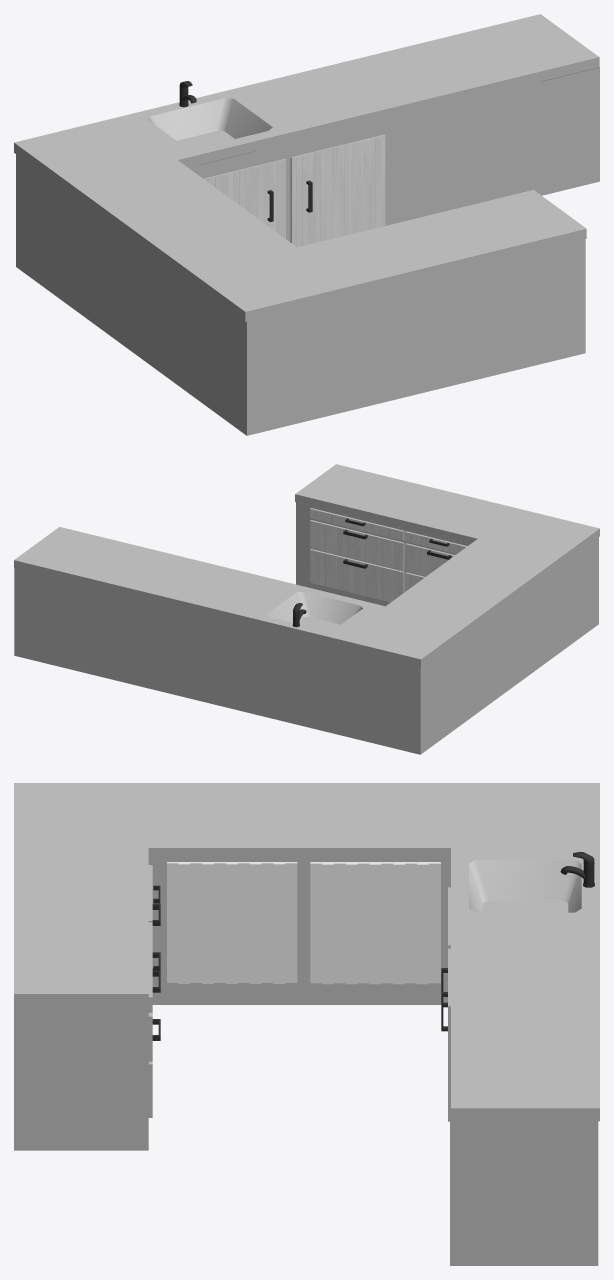
The model's file is Kitchen_set.FBX.
The picture shows the model from 3 angles, top to bottom: view 1: azimuth 30°, elevation 25°; view 2: azimuth 150°, elevation 25°; view 3: azimuth 270°, elevation 25°; orthographic projection. The views are drawn at different scales.
Visible parts, largest first — view 1: Box011, Box009, Box027; view 2: Box011, Box009, Box015, Object002, Box021; view 3: Box009, Box011, Box024, Object002, Object003, Box021.
Boxes of the visible parts, x1,y1,x2,y2 form: Box011: [16, 67, 599, 435]; Box009: [14, 14, 599, 321]; Box027: [204, 135, 385, 247]; Box011: [14, 502, 598, 754]; Box009: [14, 464, 599, 667]; Box015: [310, 509, 465, 602]; Object002: [310, 508, 467, 592]; Box021: [343, 518, 451, 568]; Box009: [14, 783, 599, 1121]; Box011: [14, 860, 598, 1265]; Box024: [167, 862, 440, 984]; Object002: [148, 865, 152, 1117]; Object003: [448, 887, 450, 1121]; Box021: [152, 885, 160, 1040].
Bounding box in the file's own units: 5691 × 1550 × 4331.
